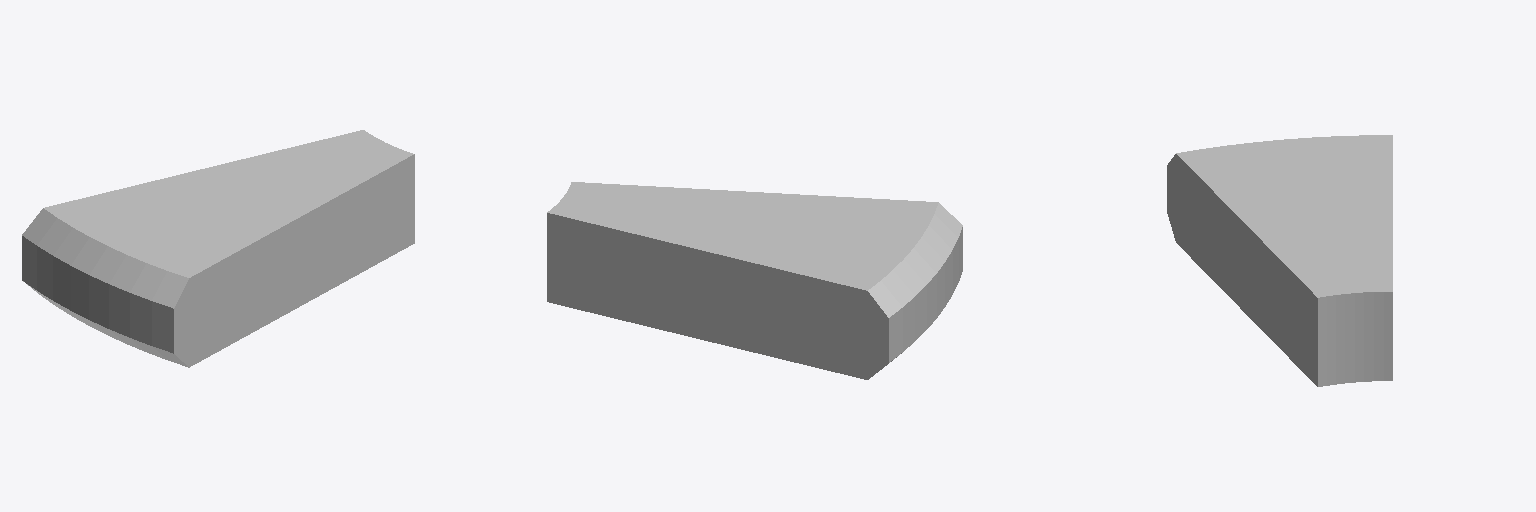
File: BeveledArch.obj
3 views of the same model, side by side, from view 1: azimuth 30°, elevation 25°; view 2: azimuth 150°, elevation 25°; view 3: azimuth 270°, elevation 25° (orthographic).
Parts seen in each view (by area): view 1: Arch; view 2: Arch; view 3: Arch.
Boxes of the visible parts, x1,y1,x2,y2 form: Arch: [22, 130, 414, 367]; Arch: [547, 182, 962, 379]; Arch: [1167, 135, 1392, 386].
Bounding box in the file's own units: 2.08 × 0.5 × 1.15.